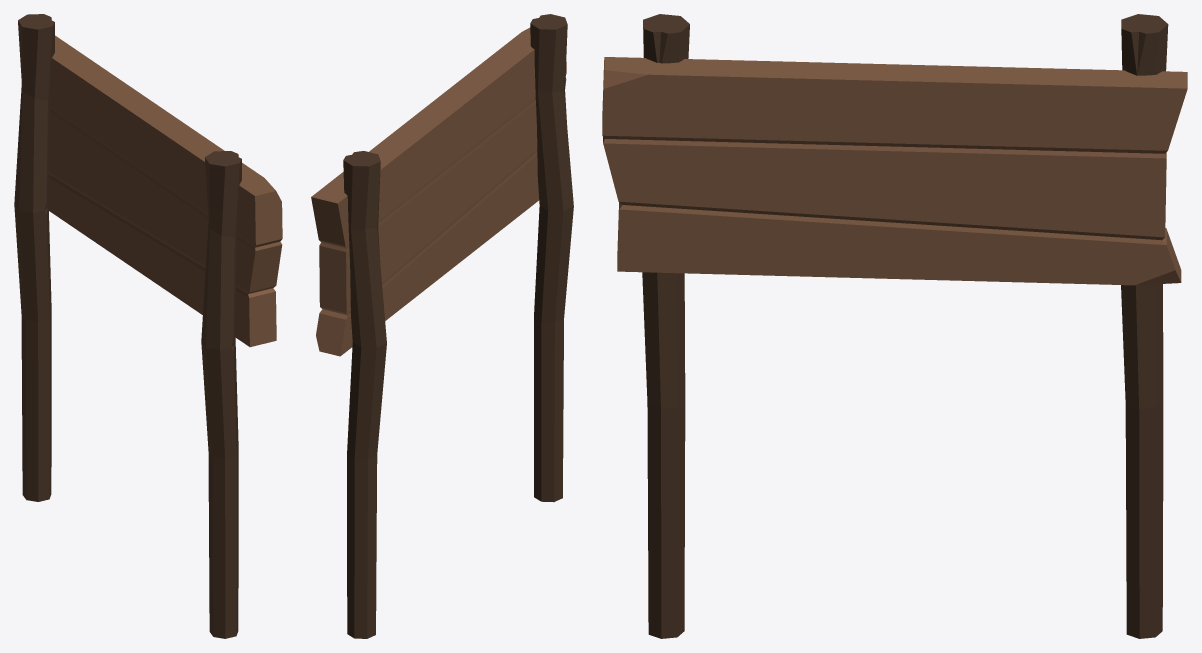
The model's file is Panel_Big.fbx.
The picture shows the model from 3 angles, left to right: view 1: azimuth 30°, elevation 25°; view 2: azimuth 150°, elevation 25°; view 3: azimuth 270°, elevation 25°; orthographic projection. The views are drawn at different scales.
Parts seen in each view (by area): view 1: Panel_Big; view 2: Panel_Big; view 3: Panel_Big.
Boxes of the visible parts, x1=… form: Panel_Big: x1=14, y1=14, x2=282, y2=638; Panel_Big: x1=311, y1=14, x2=573, y2=638; Panel_Big: x1=602, y1=14, x2=1187, y2=638.
Size of the model in its own units: 219 by 30.64 by 251.
